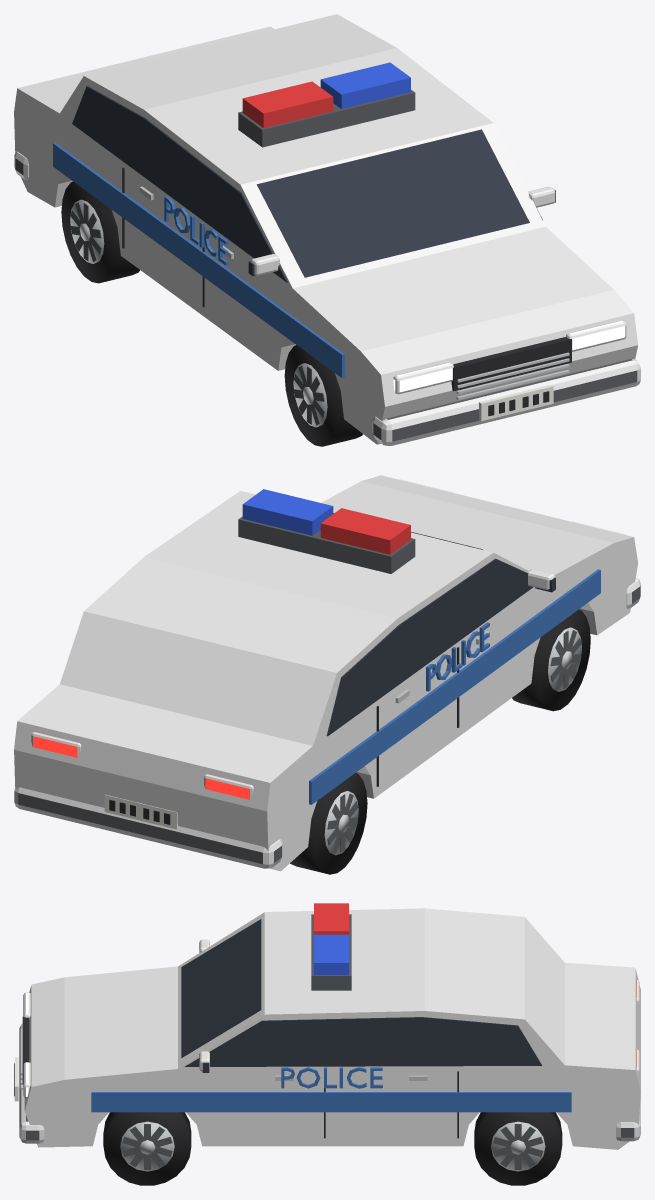
The model's file is policecar.gltf.
3 views of the same model, one above another, from view 1: azimuth 30°, elevation 25°; view 2: azimuth 150°, elevation 25°; view 3: azimuth 270°, elevation 25° (orthographic). The views are drawn at different scales.
Visible parts, largest first — view 1: policecar, Wheel3, Wheel1; view 2: policecar, Wheel1, Wheel3; view 3: policecar, Wheel0, Wheel2.
Boxes of the visible parts, box(x1,y1,x2,y2) form: policecar: box(14, 14, 640, 445); Wheel3: box(61, 181, 139, 283); Wheel1: box(284, 345, 362, 446); policecar: box(14, 475, 640, 871); Wheel1: box(512, 609, 590, 711); Wheel3: box(290, 773, 367, 874); policecar: box(14, 903, 640, 1149); Wheel0: box(103, 1112, 191, 1185); Wheel2: box(474, 1112, 562, 1185).
Bounding box in the file's own units: 0.436 × 0.3333 × 0.9404.
12 materials, 1 textured.
